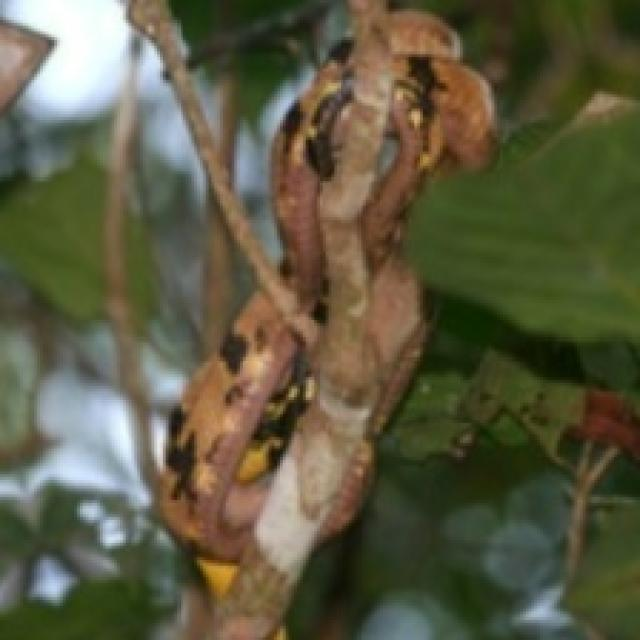dog-toothed cat snake: (154, 0, 491, 637), (157, 0, 491, 571)
